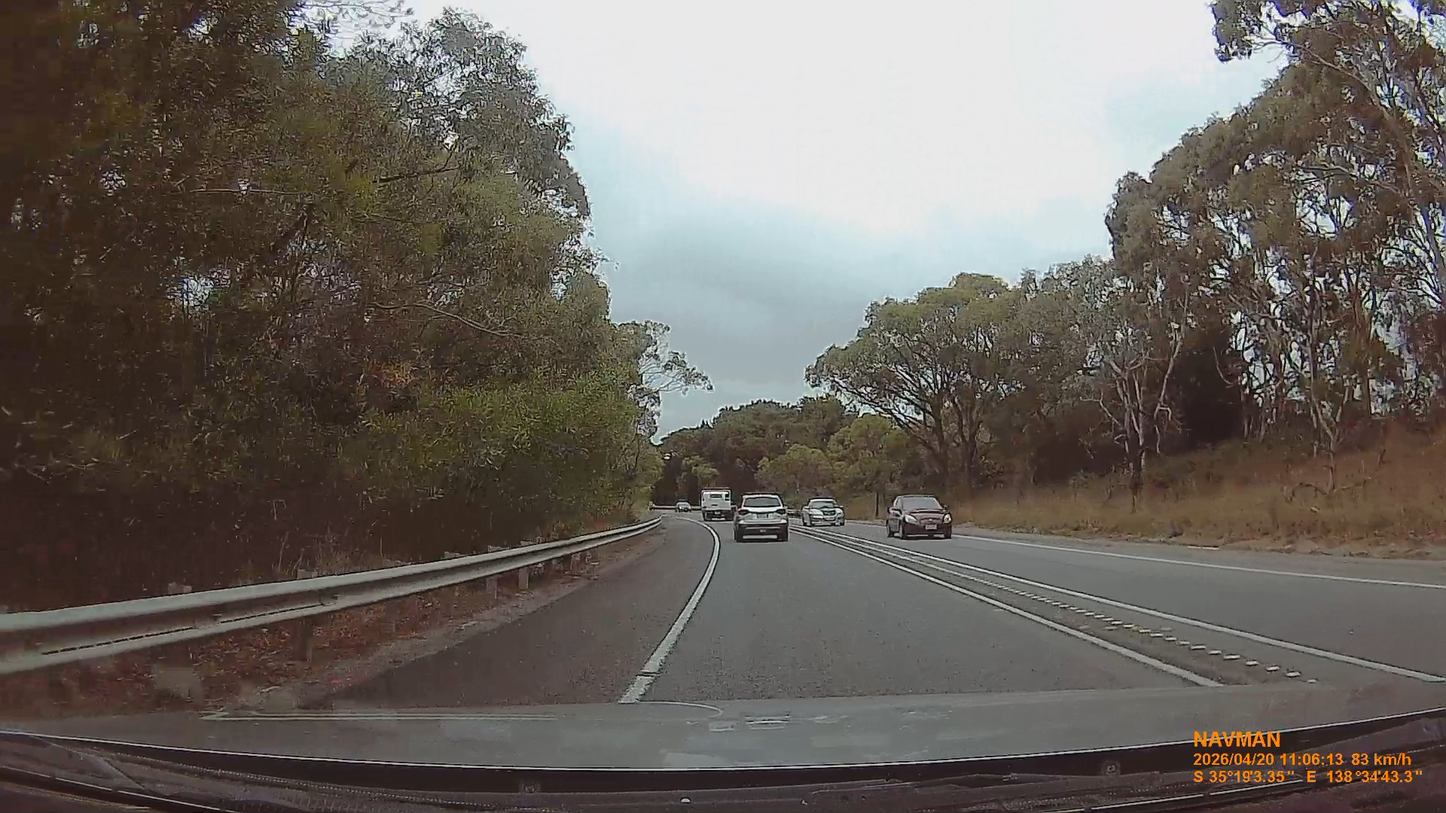road barriers: (0, 518, 661, 674)
